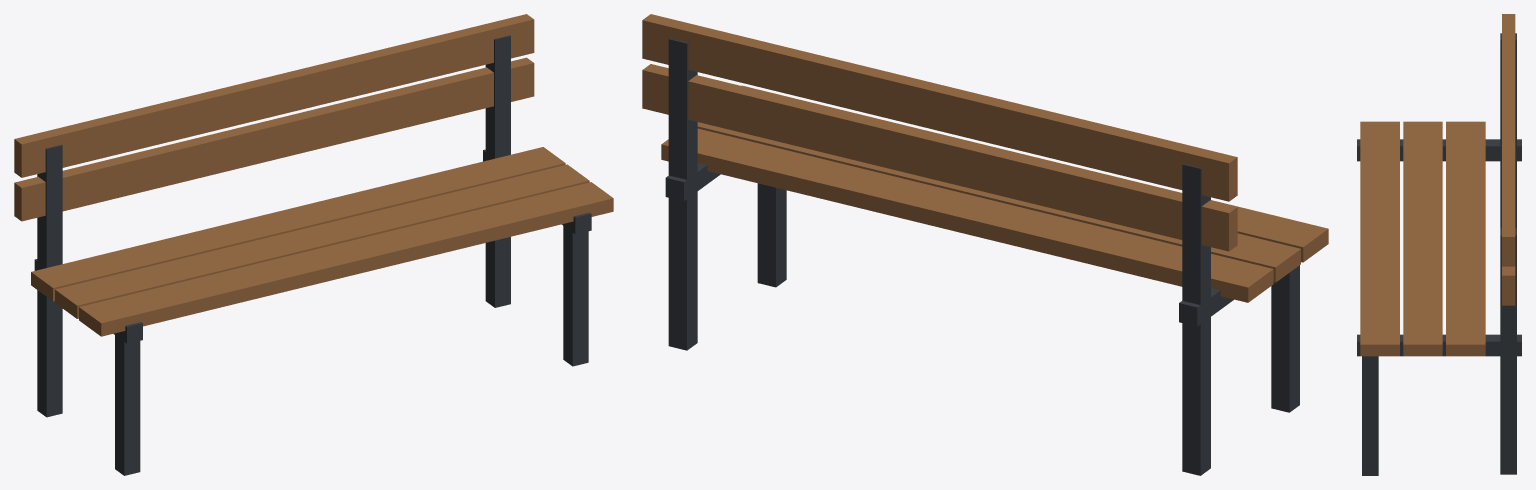
File: bench.glb
The picture shows the model from 3 angles, left to right: view 1: azimuth 30°, elevation 25°; view 2: azimuth 150°, elevation 25°; view 3: azimuth 270°, elevation 25°; orthographic projection. The views are drawn at different scales.
Visible parts, largest first — view 1: bench; view 2: bench; view 3: bench.
Part boxes in pixels (x1=…): bench: x1=14, y1=14, x2=613, y2=475; bench: x1=642, y1=14, x2=1328, y2=475; bench: x1=1357, y1=14, x2=1521, y2=475.
Size of the model in its own units: 1.6 by 0.835 by 0.5.
